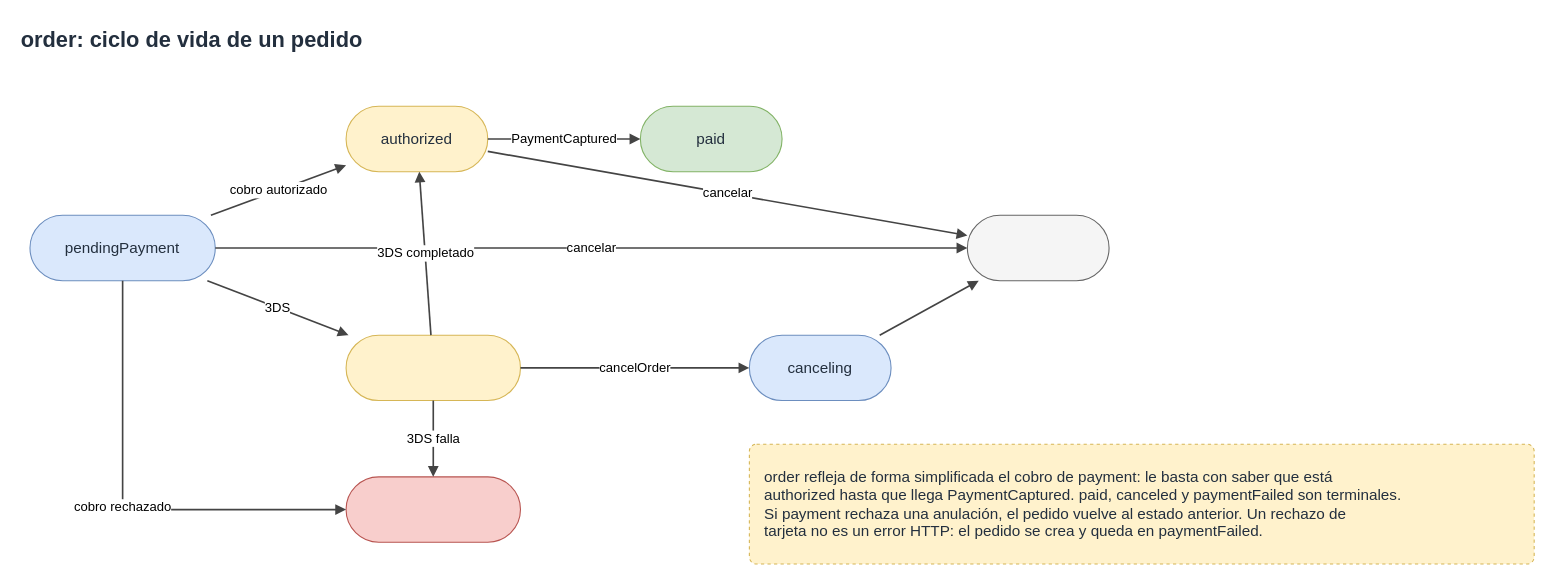
Some shapes in this 1553 by 583 pixel diagram are drawn without their labels. Each missing label, with the centre of its shape:
actionRequired: pixel 432 367
canceled: pixel 1037 247
paymentFailed: pixel 432 509
